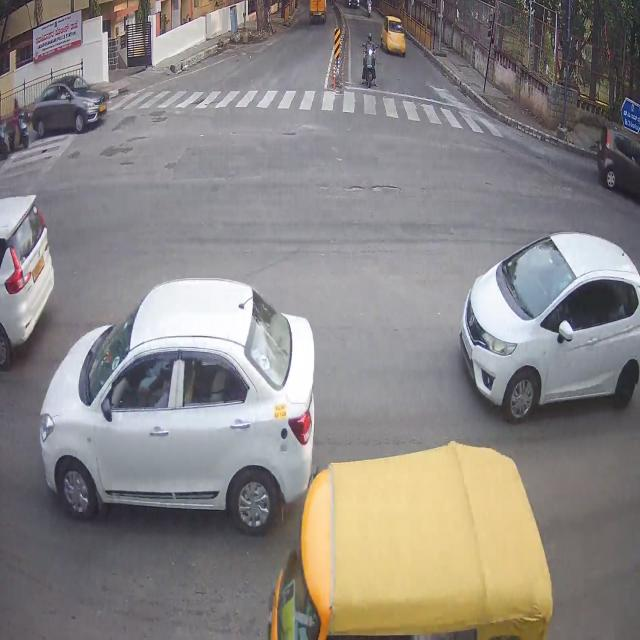Car: (57, 304, 311, 495), (467, 266, 640, 395), (4, 195, 52, 352), (32, 89, 122, 127), (601, 121, 640, 208), (382, 16, 411, 54)
LCV: (307, 0, 330, 27)
Three-wheeler: (313, 480, 524, 637)
Two-wheelers: (367, 43, 381, 87), (18, 110, 30, 152), (1, 119, 7, 160)
